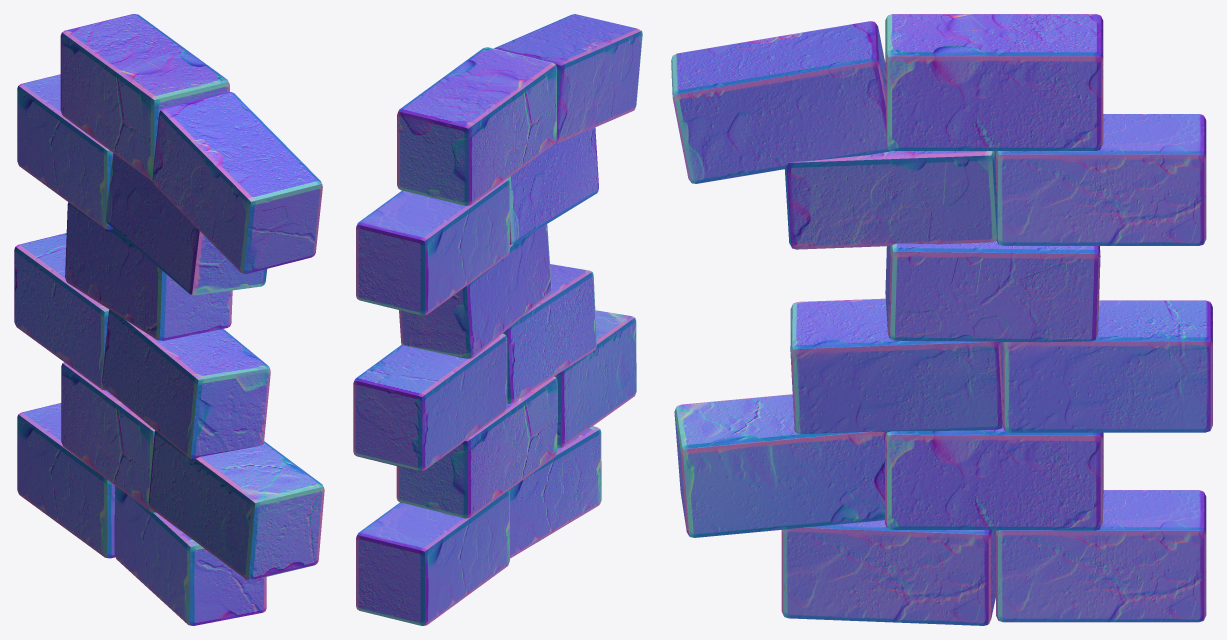
The model's file is Dungeon_WallBricksLargeFade2.fbx.
The picture shows the model from 3 angles, left to right: view 1: azimuth 30°, elevation 25°; view 2: azimuth 150°, elevation 25°; view 3: azimuth 270°, elevation 25°; orthographic projection. The views are drawn at different scales.
Visible parts, largest first — view 1: MeshHP; view 2: MeshHP; view 3: MeshHP.
Part boxes in pixels (x1=…): MeshHP: x1=14, y1=14, x2=324, y2=625; MeshHP: x1=353, y1=14, x2=642, y2=625; MeshHP: x1=671, y1=14, x2=1212, y2=625.
Bounding box in the file's own units: 0.7643 × 4.02 × 3.46.
1 material, 1 textured.
